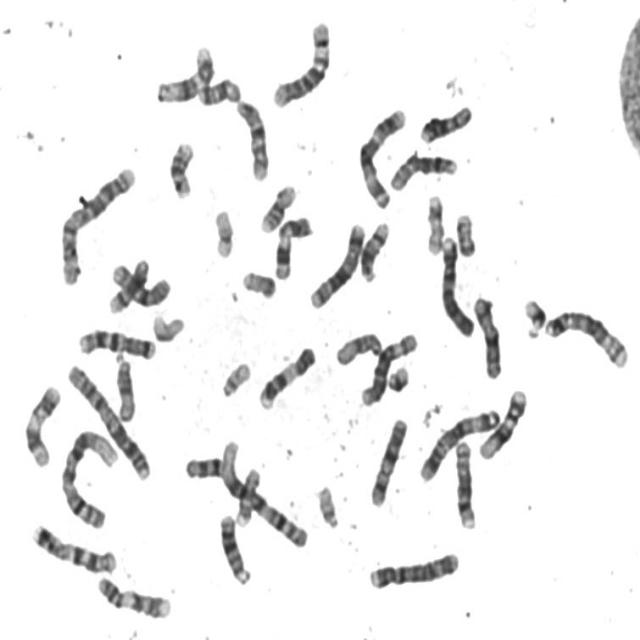A1: (179, 447, 310, 551), (56, 422, 120, 532)
A2: (62, 358, 152, 482), (55, 158, 138, 286)
A3: (414, 402, 502, 484), (354, 100, 408, 210)
B4: (364, 544, 462, 592), (435, 230, 475, 338)
B5: (539, 302, 631, 370), (305, 217, 367, 310)
C10: (232, 92, 272, 182), (107, 256, 172, 310)
C11: (19, 378, 62, 469), (270, 209, 314, 281)
C12: (474, 383, 529, 461), (152, 39, 217, 104)
C6: (267, 13, 333, 110), (357, 326, 419, 408)
C7: (26, 516, 120, 575), (73, 322, 157, 360)
C8: (384, 145, 460, 193), (450, 434, 478, 531)
C9: (254, 340, 318, 410), (92, 570, 174, 621)
D13: (214, 508, 253, 586), (415, 98, 475, 146)
D14: (104, 252, 151, 315), (355, 216, 392, 284)
D15: (331, 324, 385, 368), (110, 345, 136, 423)
E16: (256, 178, 298, 234), (164, 135, 196, 200)
E17: (231, 461, 263, 528), (421, 188, 446, 256)
E18: (194, 70, 242, 107), (240, 266, 277, 301)
F19: (208, 202, 236, 260), (147, 307, 187, 344)
F20: (231, 461, 263, 528), (451, 206, 478, 258)
G21: (518, 292, 548, 339), (383, 359, 411, 394)
G22: (216, 354, 254, 398), (312, 477, 342, 531)
X: (364, 411, 410, 508), (468, 290, 504, 380)
